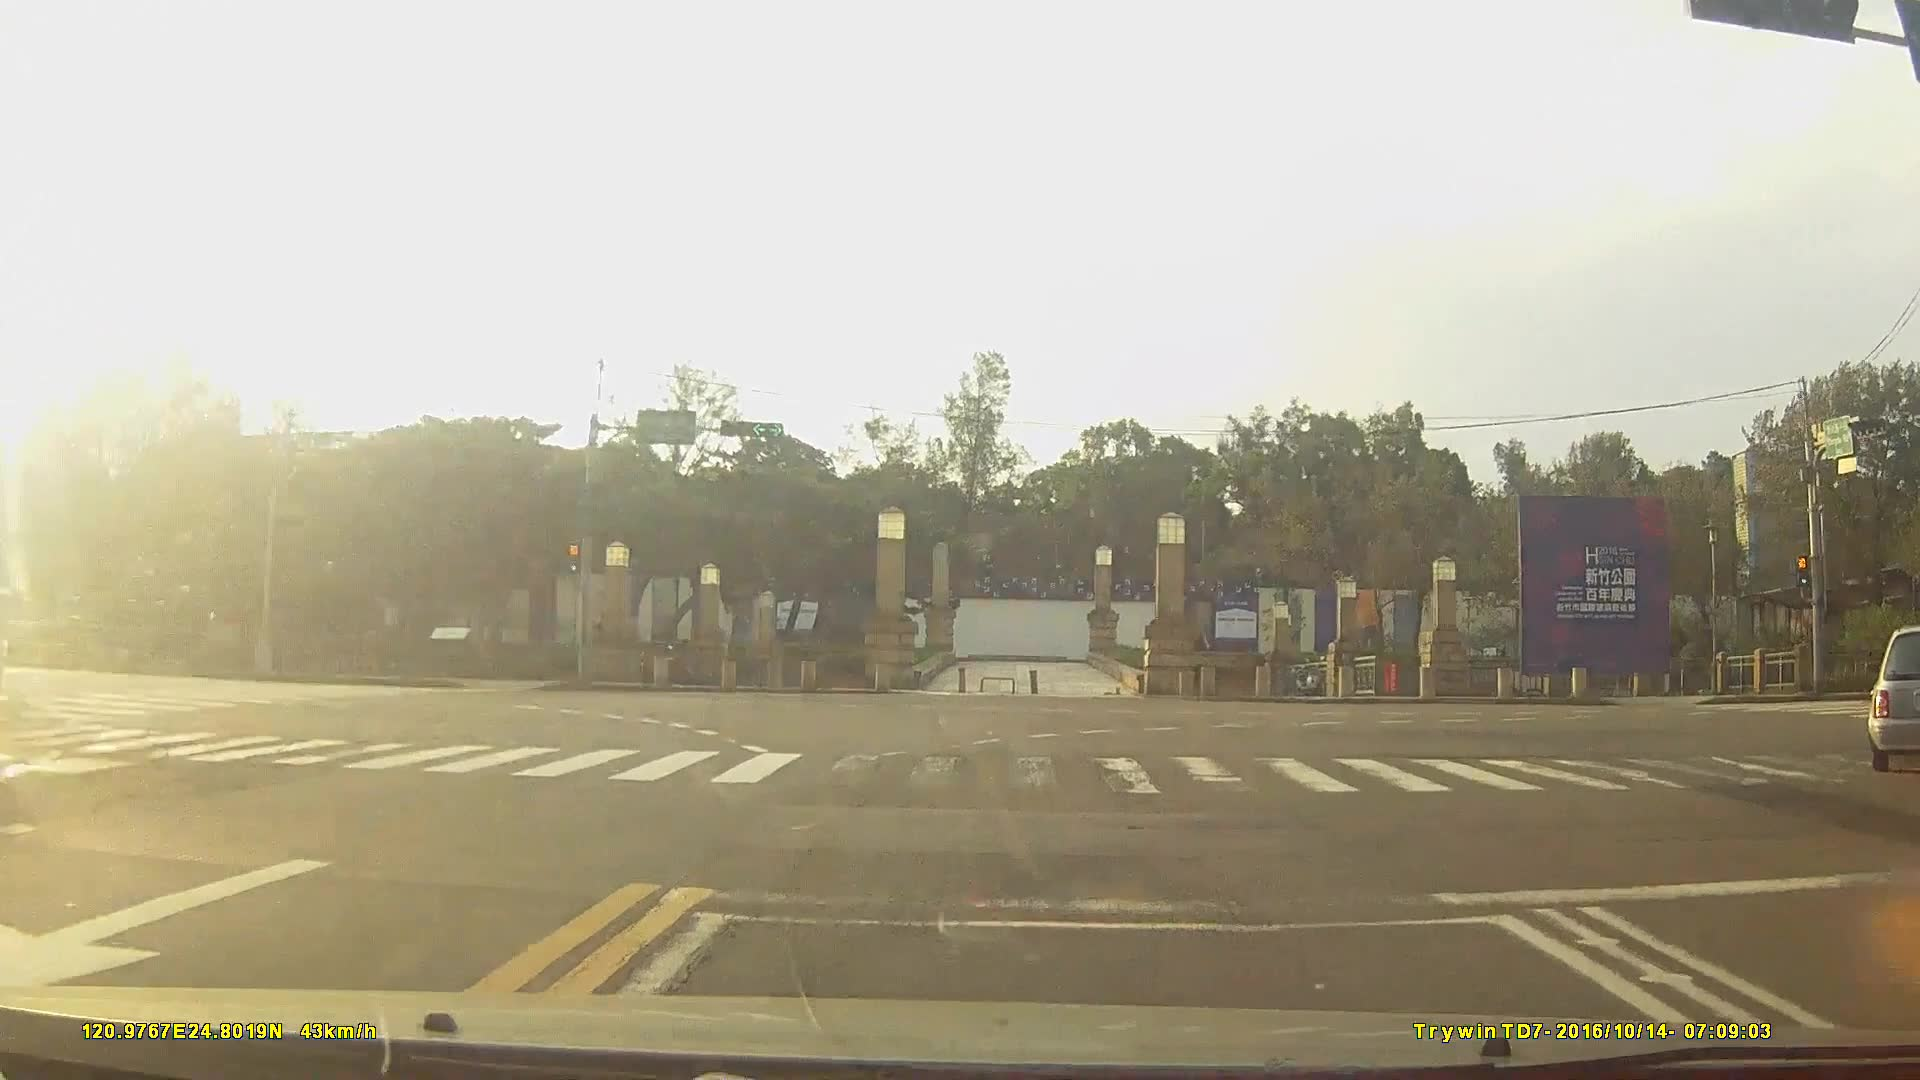vehicle: (1869, 622, 1920, 770)
